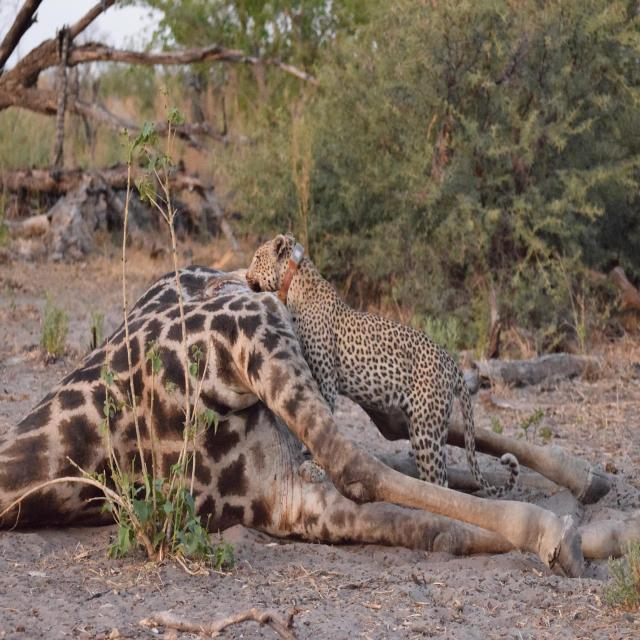Leopard: (242, 238, 506, 503)
